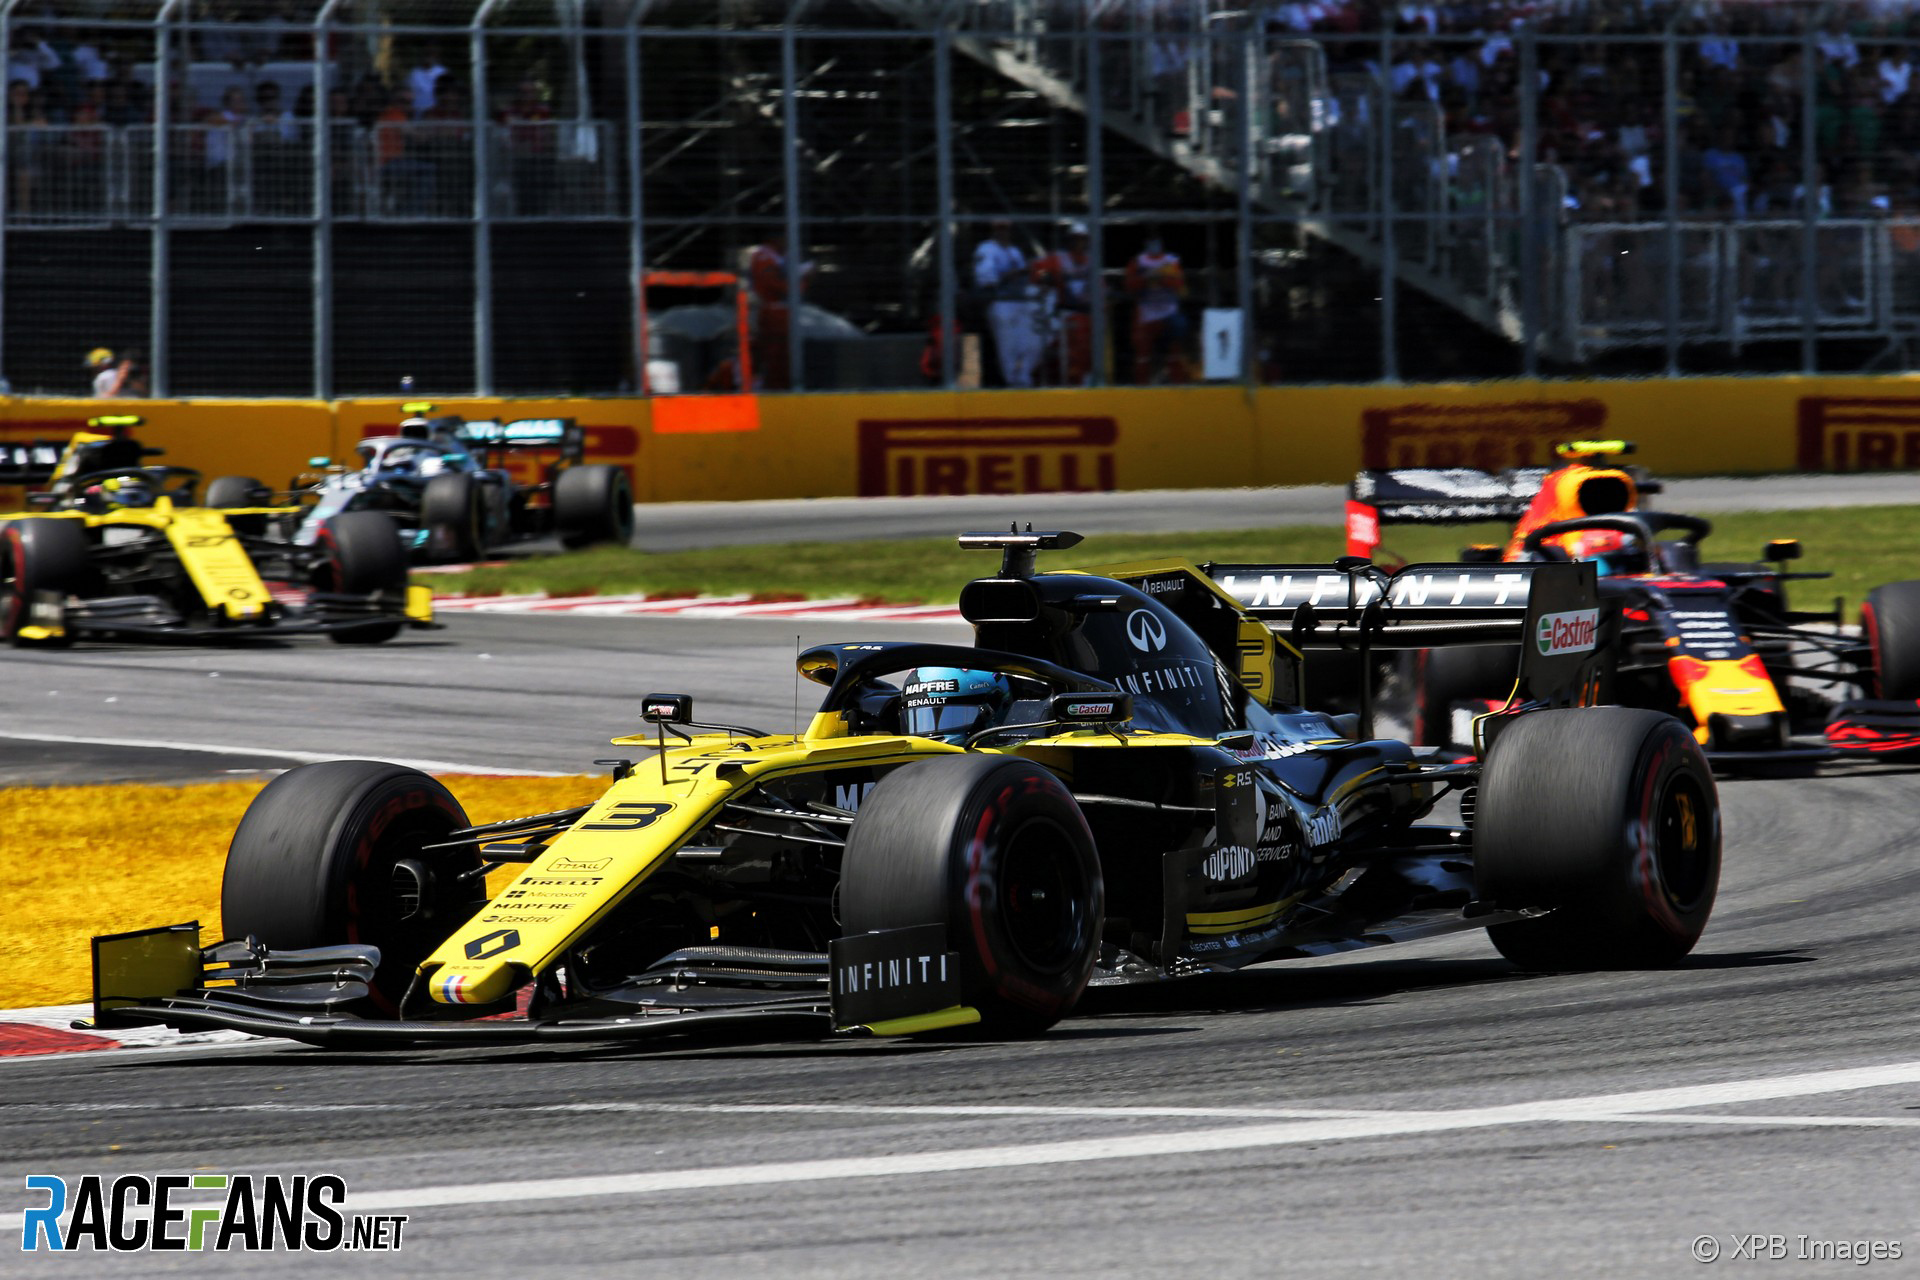F1 Car: (83, 524, 1734, 1051)
